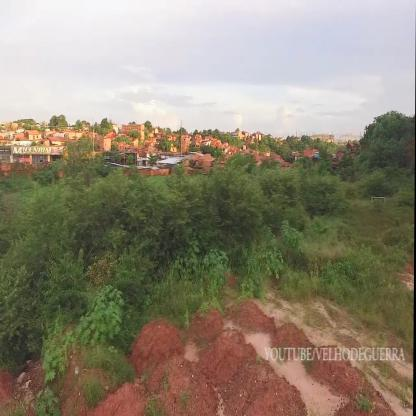agua: (246, 330, 272, 354)
